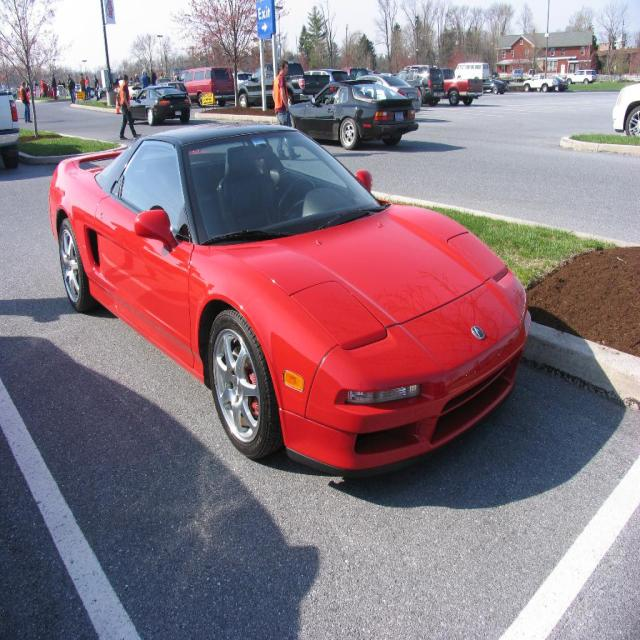car: (47, 120, 533, 459), (129, 81, 191, 126)
